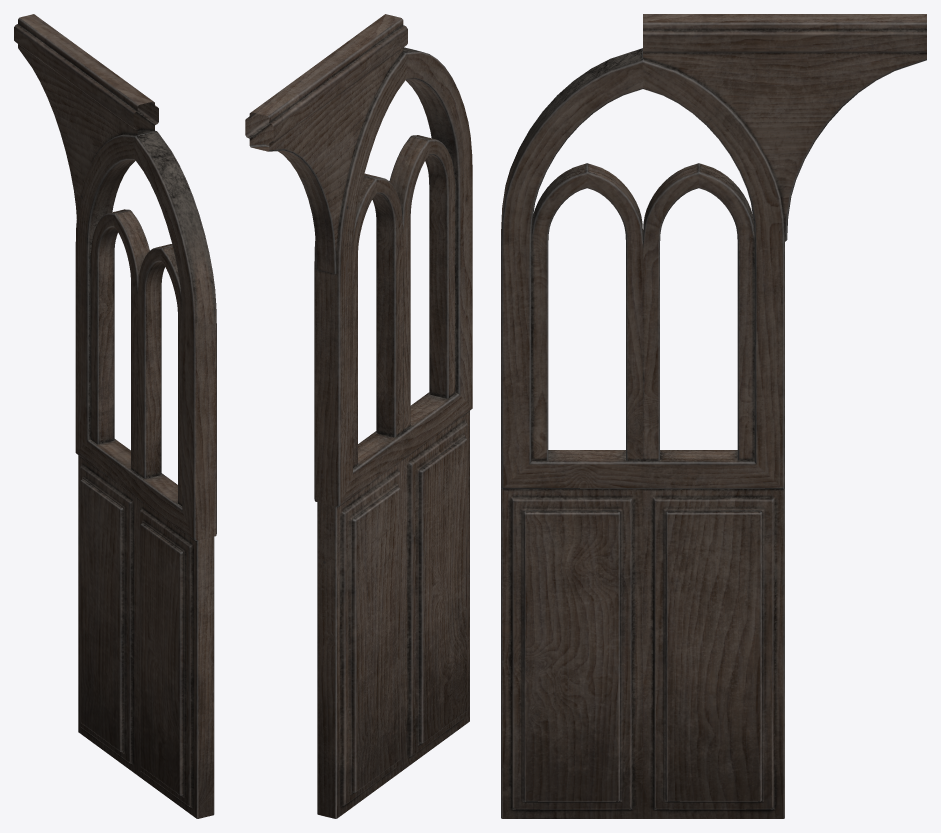
Rendered from SM_ChurchDividerB.fbx.
The picture shows the model from 3 angles, left to right: view 1: azimuth 30°, elevation 25°; view 2: azimuth 150°, elevation 25°; view 3: azimuth 270°, elevation 25°; orthographic projection. The views are drawn at different scales.
Parts seen in each view (by area): view 1: SM_ChurchDividerB_LOD0; view 2: SM_ChurchDividerB_LOD0; view 3: SM_ChurchDividerB_LOD0.
Boxes of the visible parts, x1=… form: SM_ChurchDividerB_LOD0: x1=14, y1=14, x2=216, y2=818; SM_ChurchDividerB_LOD0: x1=245, y1=14, x2=472, y2=818; SM_ChurchDividerB_LOD0: x1=501, y1=14, x2=926, y2=818.
Bounding box in the file's own units: 20.81 × 198 × 408.
1 material, 1 textured.
